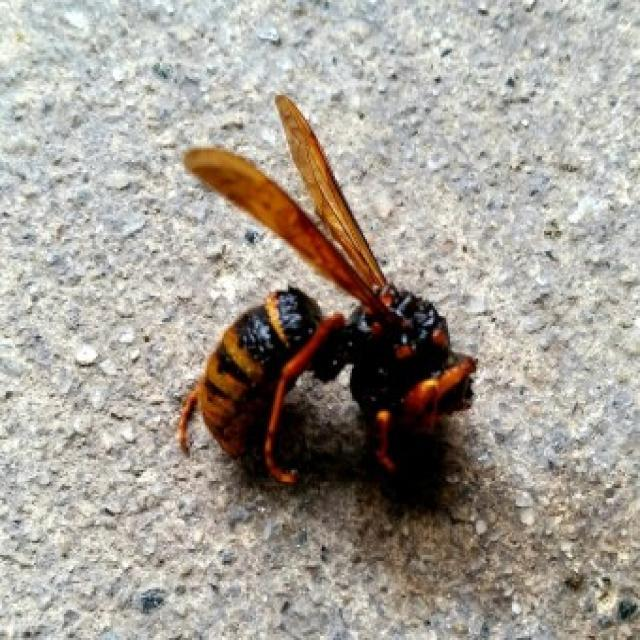Wasp: (174, 88, 480, 498)
